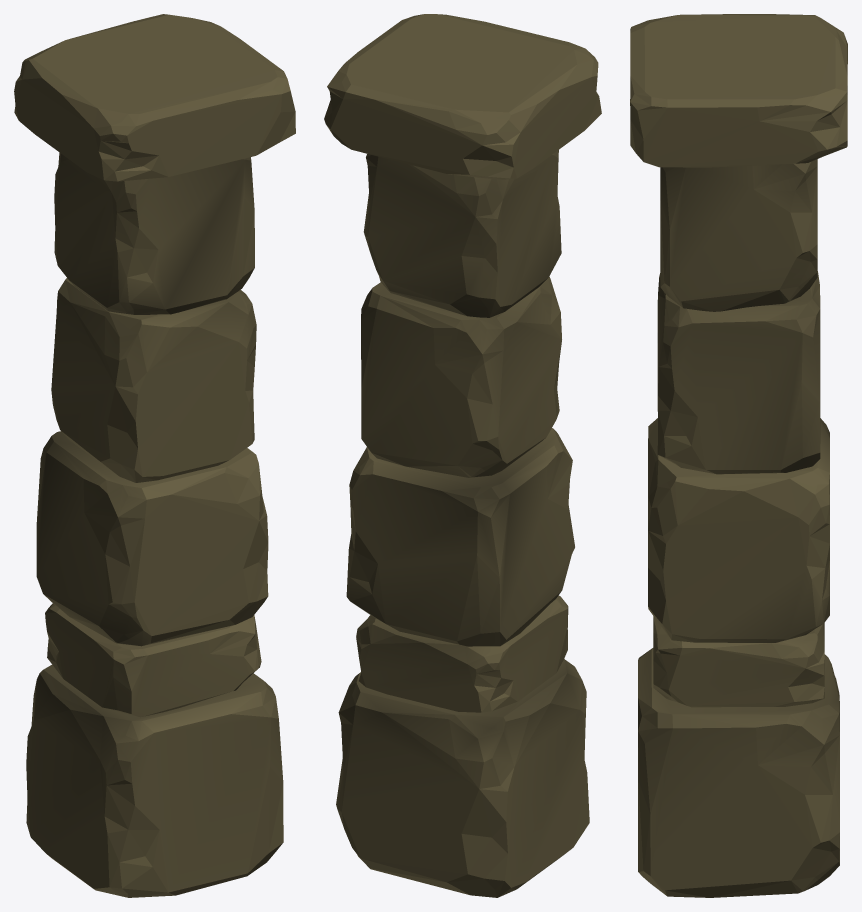
The model's file is ENV_Stone_Pillar_01.fbx.
3 renders of one model, left to right at view 1: azimuth 30°, elevation 25°; view 2: azimuth 150°, elevation 25°; view 3: azimuth 270°, elevation 25°, orthographic.
Visible parts, largest first — view 1: ENV_Stone_Pillar_01; view 2: ENV_Stone_Pillar_01; view 3: ENV_Stone_Pillar_01.
Part boxes in pixels (left/top/right/bottom): ENV_Stone_Pillar_01: left=14, top=14, right=295, bottom=897; ENV_Stone_Pillar_01: left=324, top=14, right=601, bottom=897; ENV_Stone_Pillar_01: left=630, top=14, right=847, bottom=897.
Size of the model in its own units: 122 by 486 by 120.
